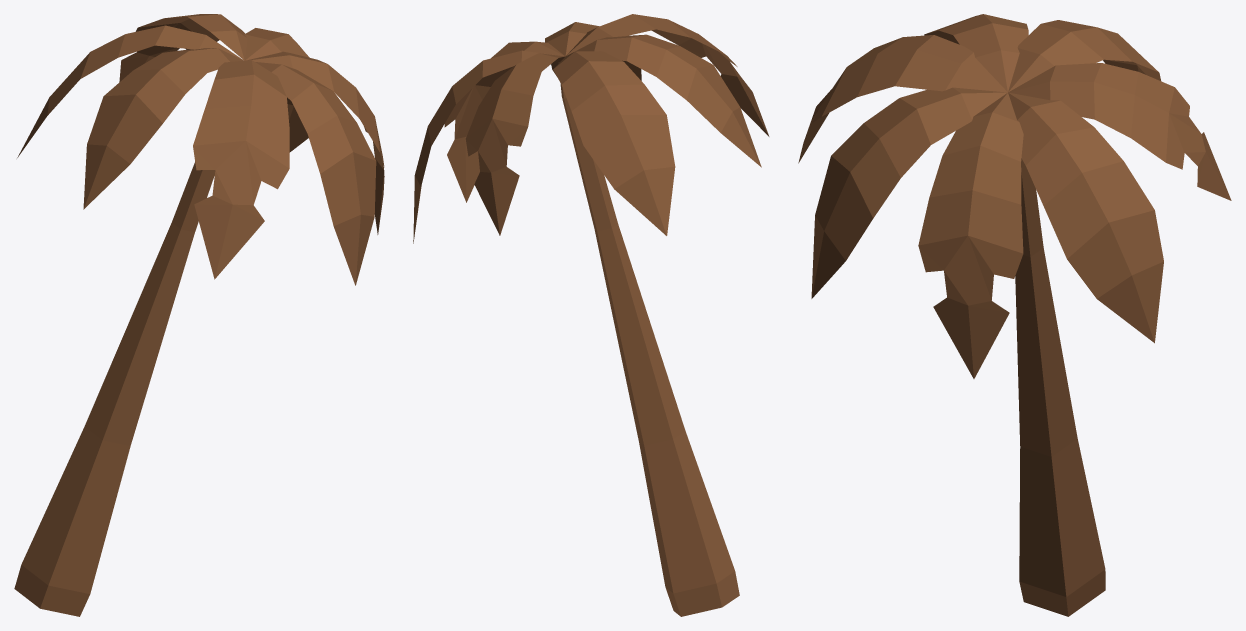
Rendered from oasis-palm-big.fbx.
The picture shows the model from 3 angles, left to right: view 1: azimuth 30°, elevation 25°; view 2: azimuth 150°, elevation 25°; view 3: azimuth 270°, elevation 25°; orthographic projection. The views are drawn at different scales.
Parts seen in each view (by area): view 1: oasis-palm-big; view 2: oasis-palm-big; view 3: oasis-palm-big.
Part boxes in pixels (bbox=[...]): oasis-palm-big: bbox=[14, 14, 384, 616]; oasis-palm-big: bbox=[413, 14, 769, 616]; oasis-palm-big: bbox=[798, 14, 1231, 616].
Bounding box in the file's own units: 3.97 × 6.58 × 4.06.
